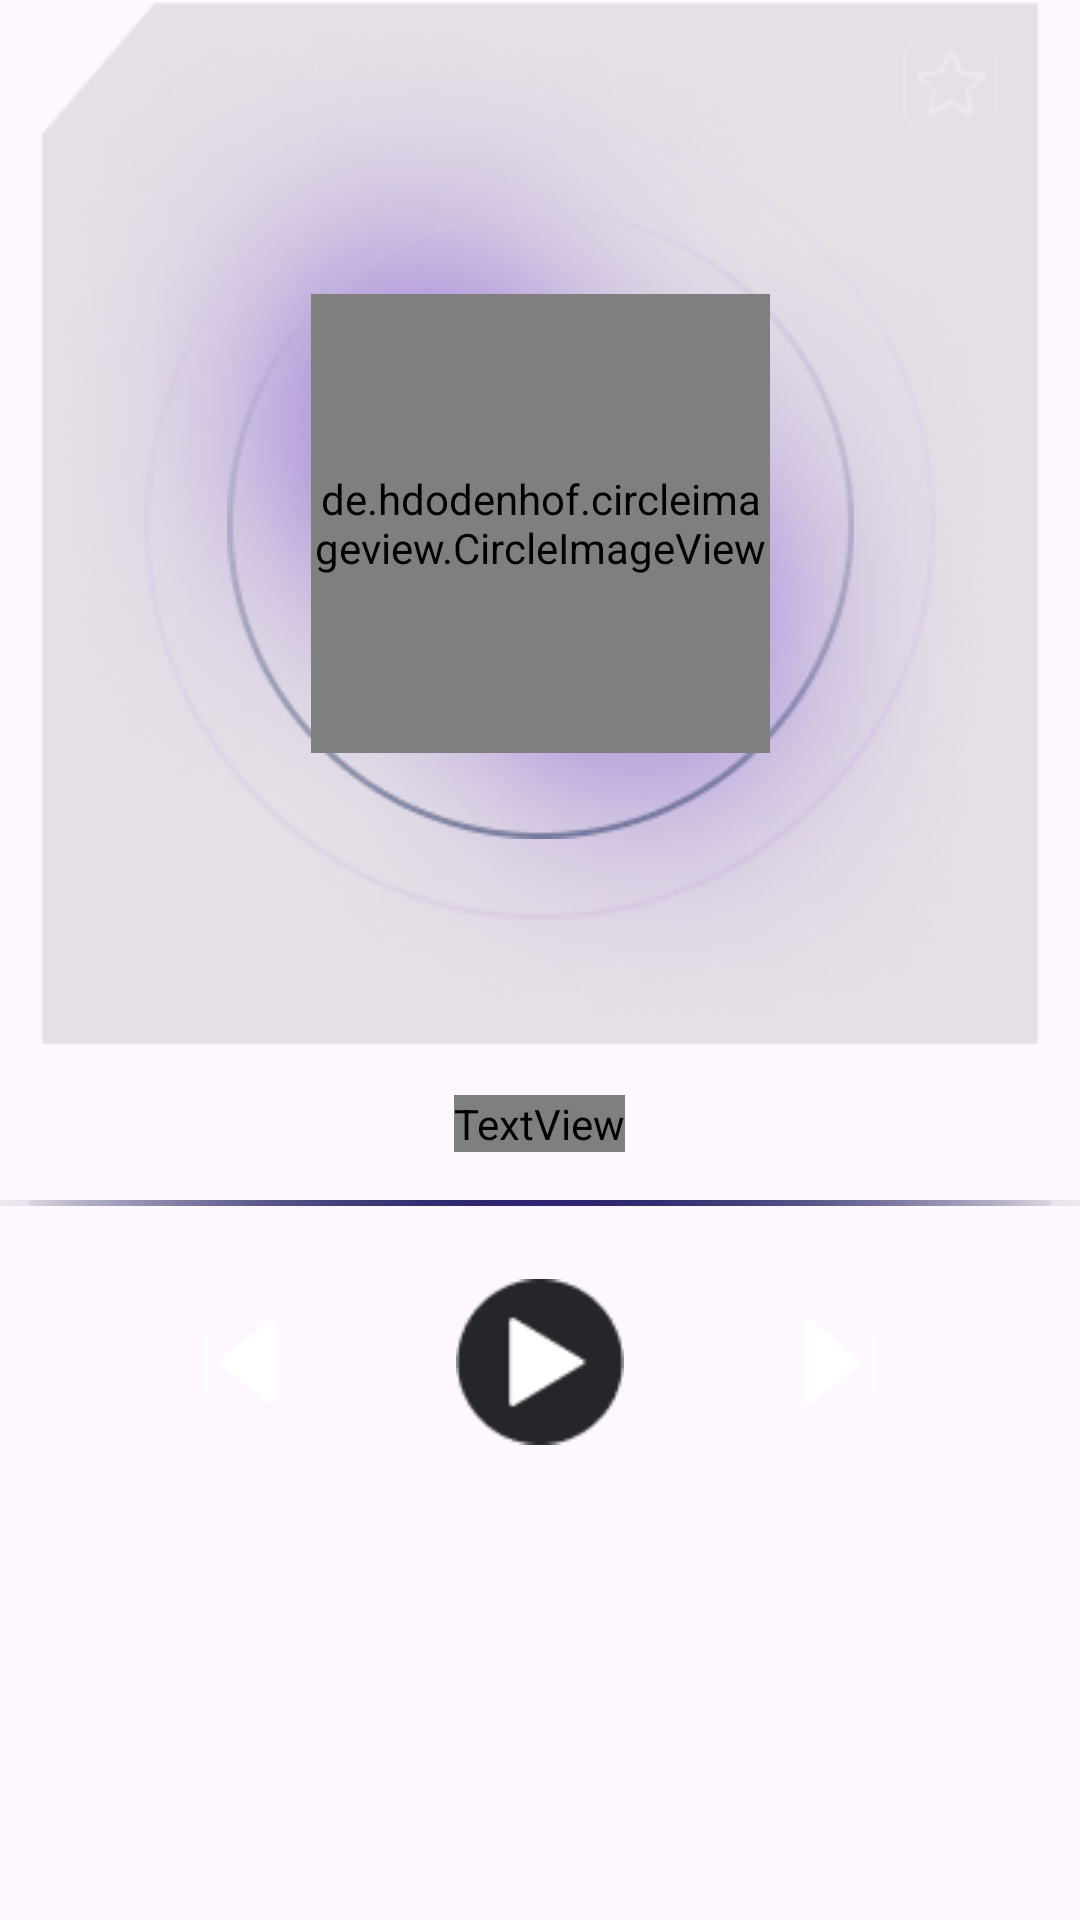

Named icons in this screenshot (1080 x 1920) and their bounding boxes, [x1,y1,x2,y2]:
play radio player: [456,1279,624,1445]
